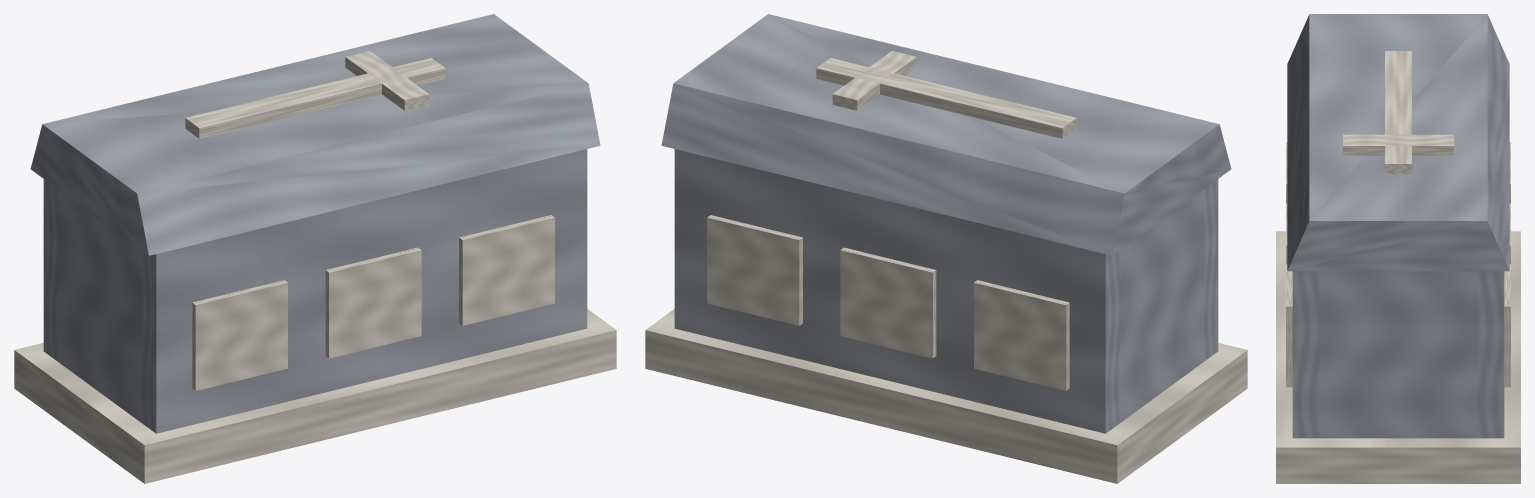
The model's file is vampire-crypt-and-gothic-cathedral-sarcophagus-40e7b346__22980.glb.
3 views of the same model, side by side, from view 1: azimuth 30°, elevation 25°; view 2: azimuth 150°, elevation 25°; view 3: azimuth 270°, elevation 25° (orthographic). The views are drawn at different scales.
Visible parts, largest first — view 1: sarcophagus, sarcophagus-lid/slate, sarcophagus-lid/bone; view 2: sarcophagus, sarcophagus-lid/slate, sarcophagus-lid/bone; view 3: sarcophagus, sarcophagus-lid/slate, sarcophagus-lid/bone.
Boxes of the visible parts, x1,y1,x2,y2 form: sarcophagus: (14, 149, 616, 483); sarcophagus-lid/slate: (30, 14, 600, 255); sarcophagus-lid/bone: (185, 51, 445, 138); sarcophagus: (645, 149, 1247, 483); sarcophagus-lid/slate: (661, 14, 1231, 255); sarcophagus-lid/bone: (816, 51, 1076, 138); sarcophagus: (1276, 142, 1520, 483); sarcophagus-lid/slate: (1287, 14, 1509, 271); sarcophagus-lid/bone: (1343, 51, 1453, 173).
Size of the model in its own units: 2.3 by 1.33 by 1.1.
3 materials, 2 textured.
